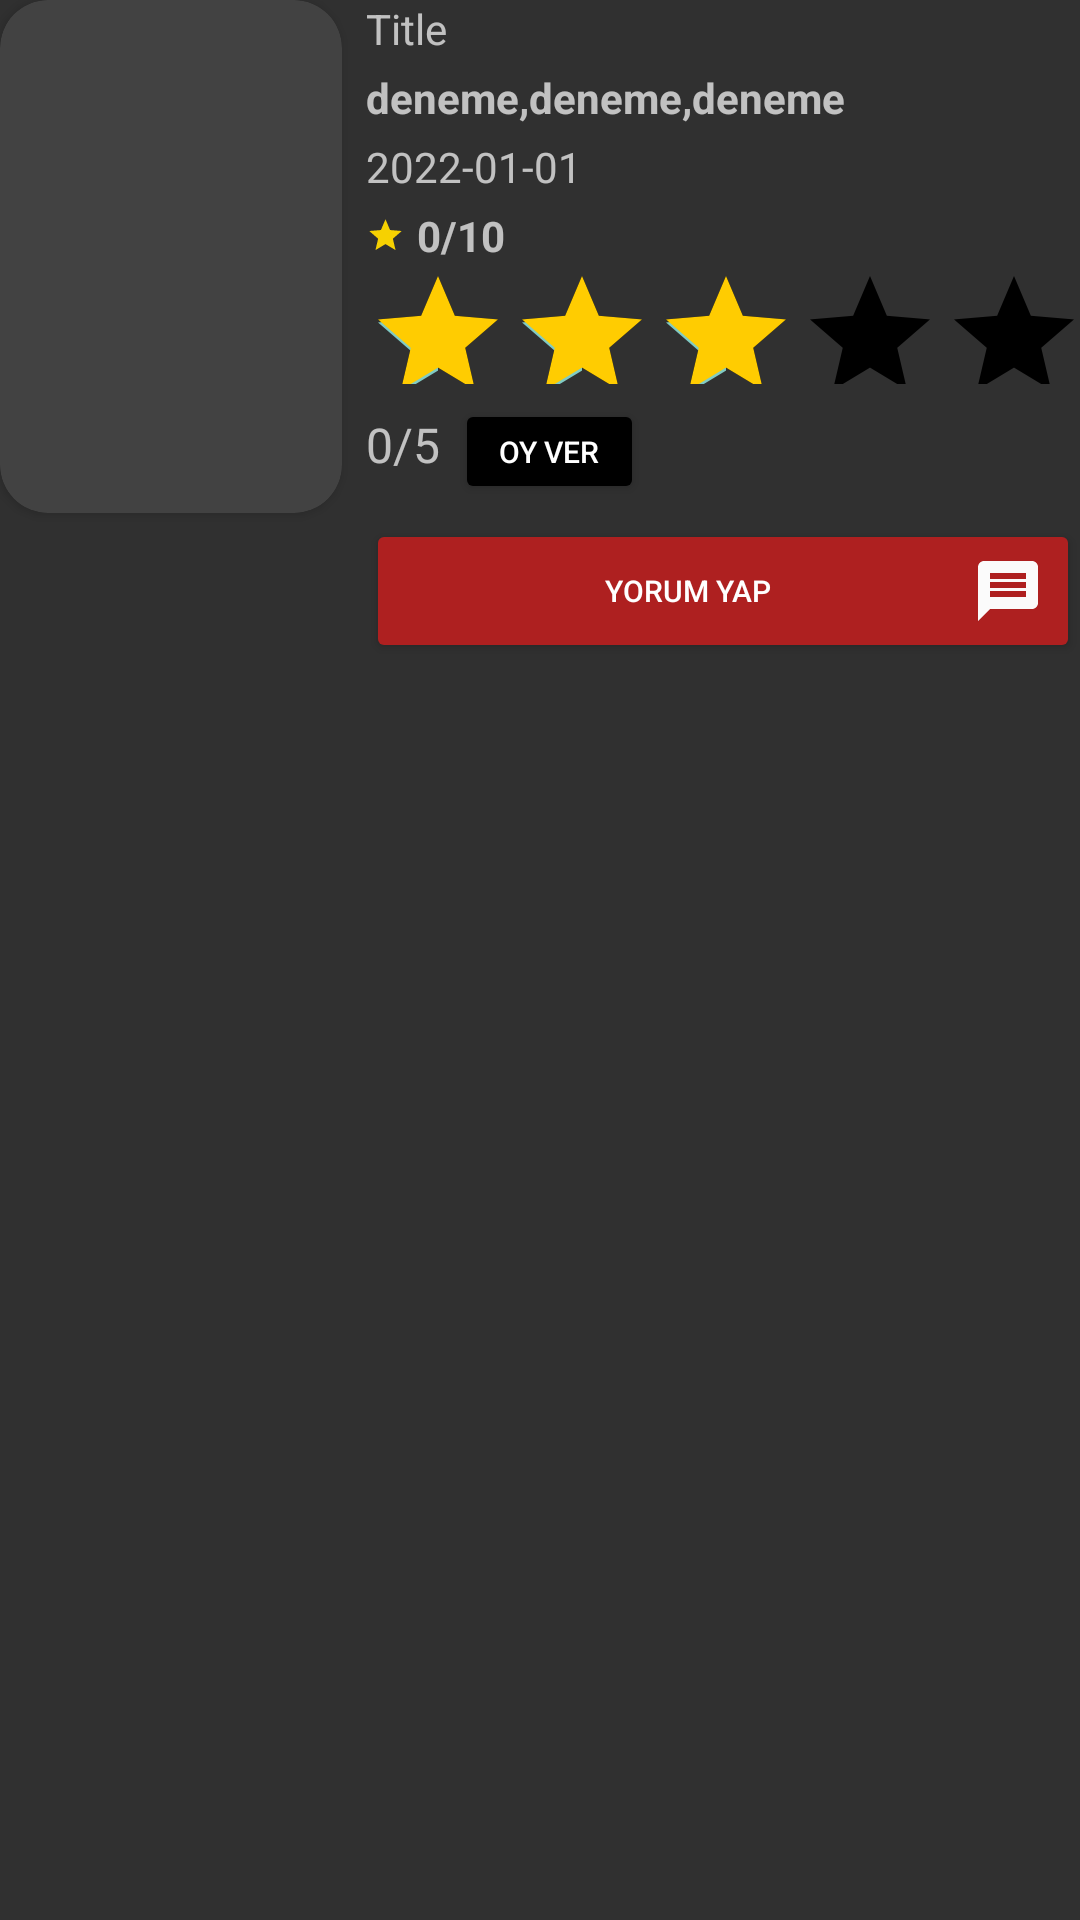

Icon bounding boxes for this 1080x1920 phone screenshot, format [x1, y1, x2, y2]:
star: [369, 219, 402, 250]
